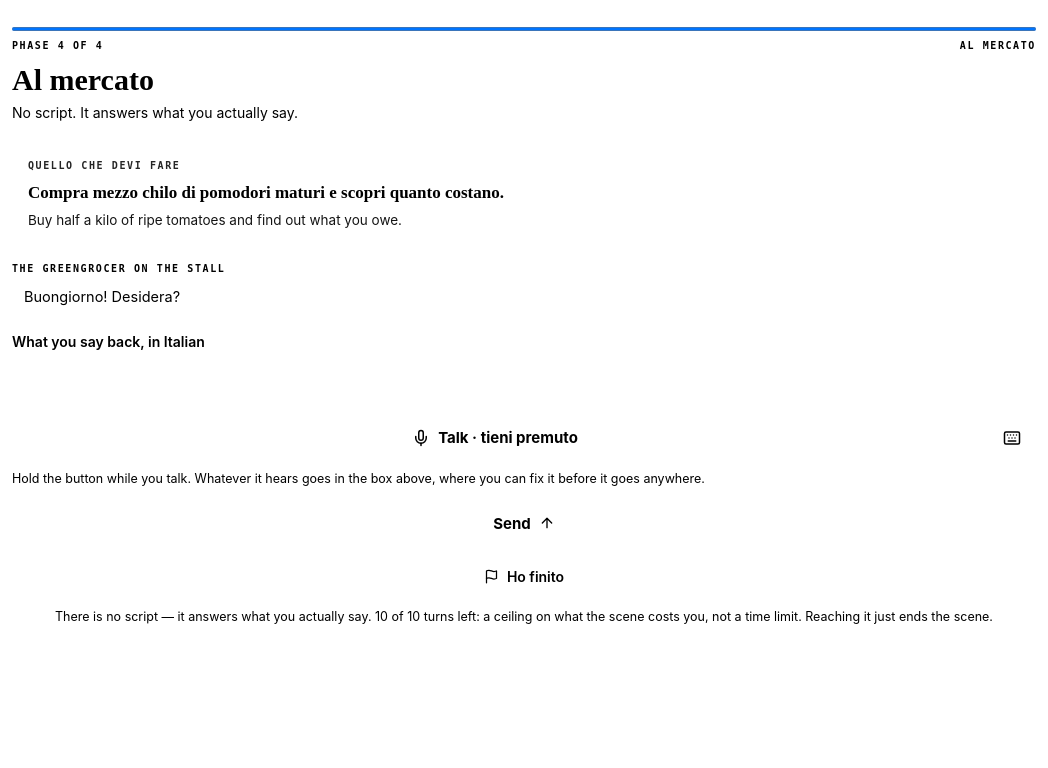
Test: the conversation › ends on the Ho finito button
This screenshot has width=1048, height=768.
What coordinates should you click on to do the following:
click the button "Ho finito"
I would click on:
 (524, 576)
Its box is [12,556,1036,597].
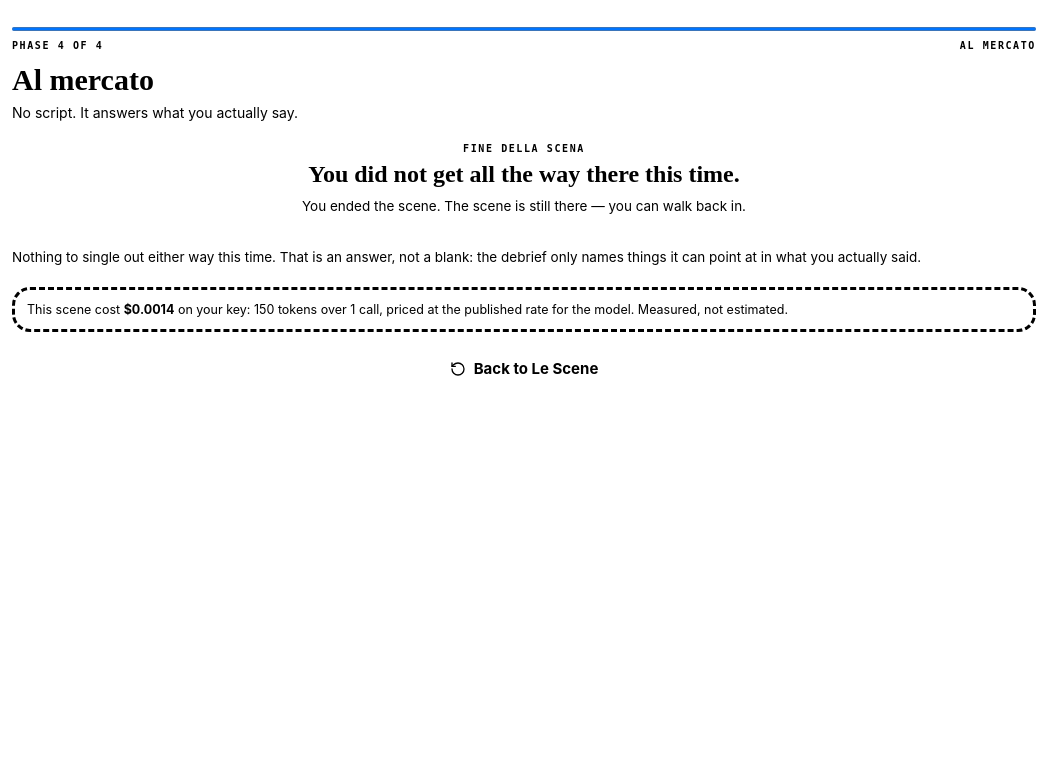
Expected: the text "You ended the scene" is shown, [302,198,441,214]
Expected: the button "Send" is gone
